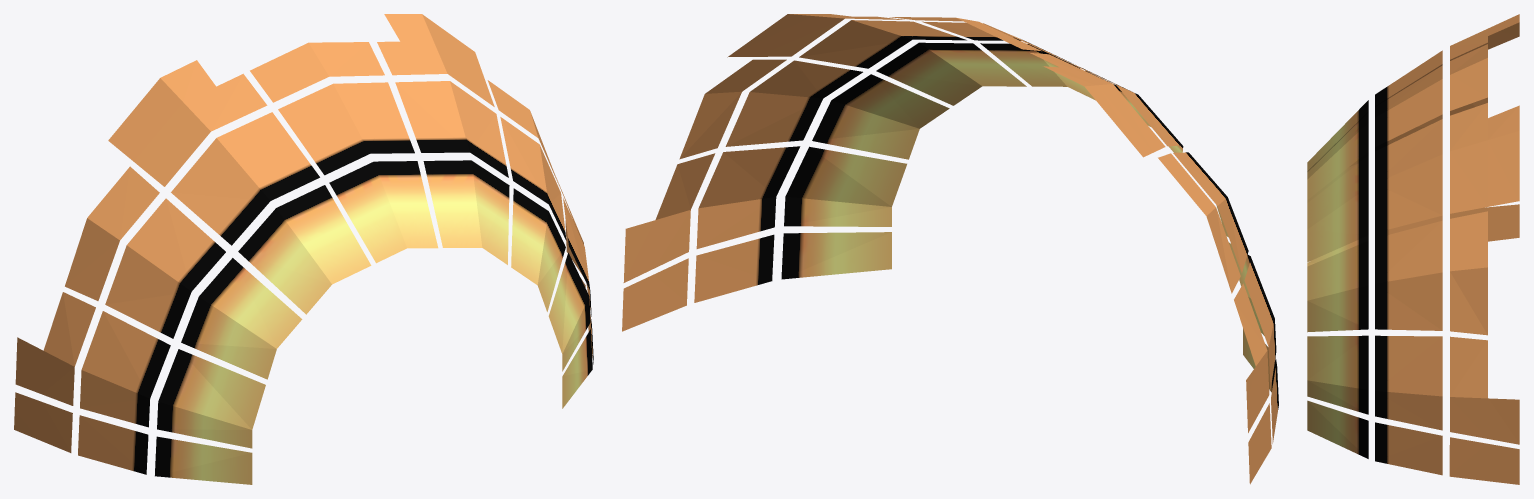
The model's file is yanjiusuo_sao01.FBX.
3 renders of one model, left to right at view 1: azimuth 30°, elevation 25°; view 2: azimuth 150°, elevation 25°; view 3: azimuth 270°, elevation 25°, orthographic. The views are drawn at different scales.
Parts seen in each view (by area): view 1: yanjiusuo_sao01; view 2: yanjiusuo_sao01; view 3: yanjiusuo_sao01.
Part boxes in pixels (x1=…): yanjiusuo_sao01: x1=14, y1=14, x2=593, y2=484; yanjiusuo_sao01: x1=622, y1=14, x2=1278, y2=484; yanjiusuo_sao01: x1=1307, y1=14, x2=1519, y2=484.
Bounding box in the file's own units: 686 × 249 × 393.
